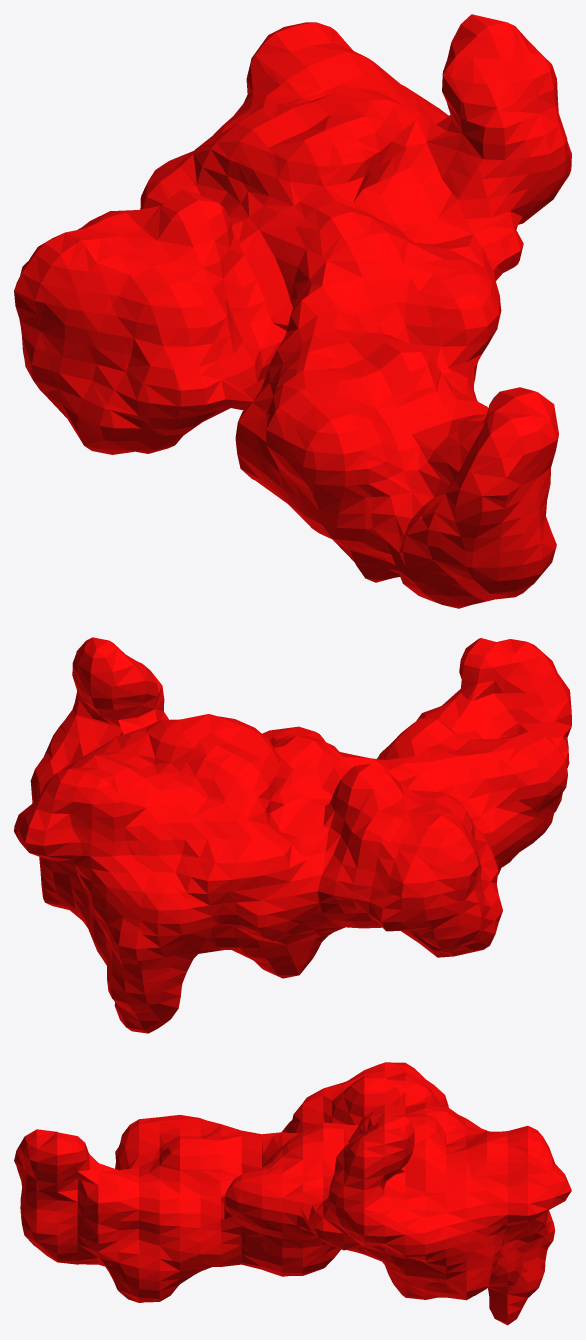
The model's file is mrcA_coarse.dae.
3 views of the same model, one above another, from view 1: azimuth 30°, elevation 25°; view 2: azimuth 150°, elevation 25°; view 3: azimuth 270°, elevation 25° (orthographic). The views are drawn at different scales.
Visible parts, largest first — view 1: mrcA; view 2: mrcA; view 3: mrcA.
Boxes of the visible parts, x1,y1,x2,y2 form: mrcA: (14,14,571,608); mrcA: (14,637,571,1033); mrcA: (14,1062,571,1325).
Bounding box in the file's own units: 93.66 × 64.35 × 131.
